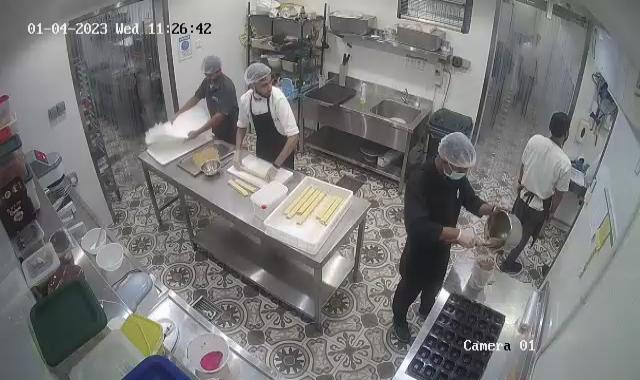hairnet: (438, 130, 478, 172), (243, 60, 272, 88), (198, 53, 225, 78)
no_hairnet: (549, 110, 571, 143)
